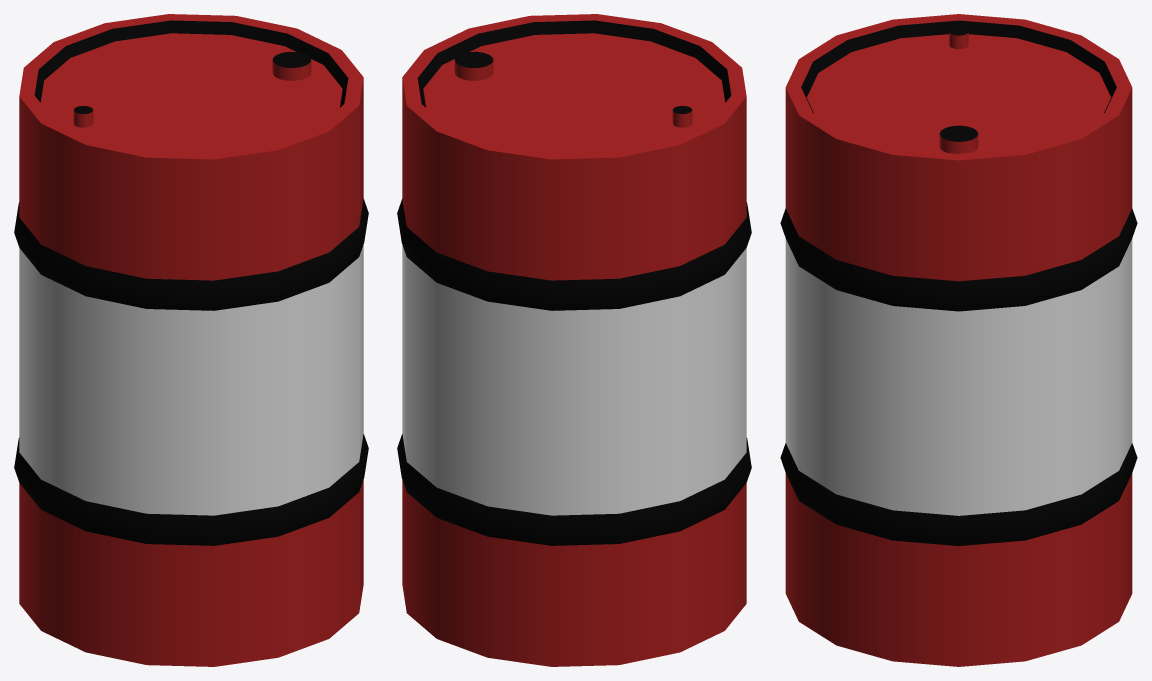
Rendered from red barrel.fbx.
3 renders of one model, left to right at view 1: azimuth 30°, elevation 25°; view 2: azimuth 150°, elevation 25°; view 3: azimuth 270°, elevation 25°, orthographic.
Visible parts, largest first — view 1: Cylinder; view 2: Cylinder; view 3: Cylinder.
Part boxes in pixels (<box>): Cylinder: <box>14,14,368,666</box>; Cylinder: <box>397,14,751,666</box>; Cylinder: <box>780,14,1137,666</box>.
Size of the model in its own units: 206 by 324 by 206.
